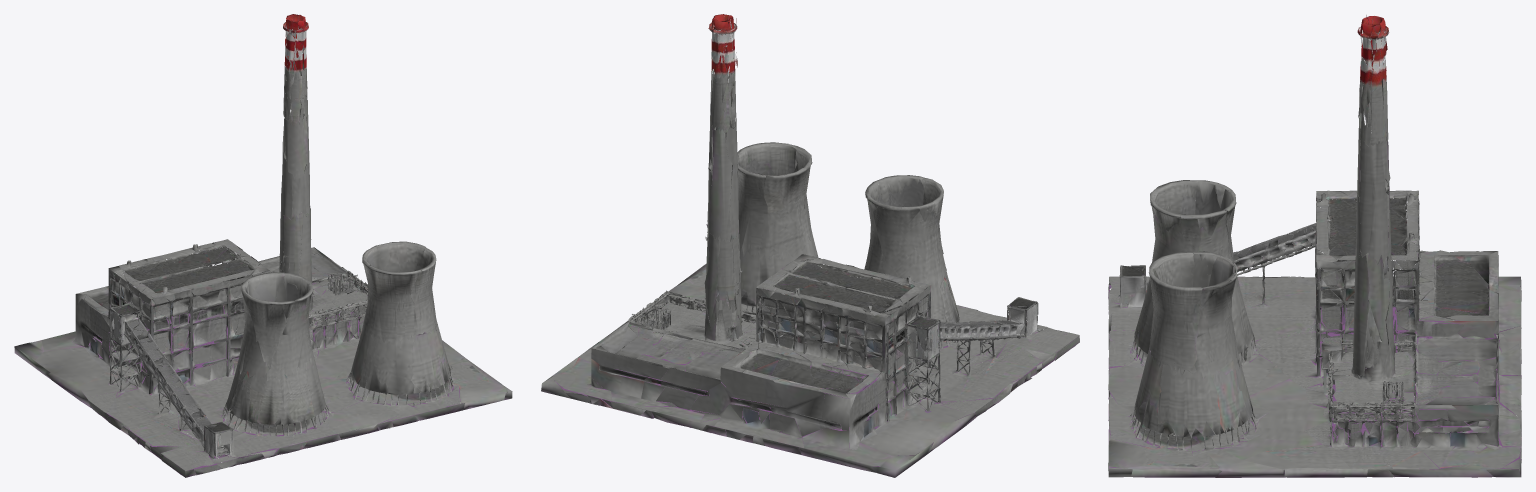
Rendered from coal-plant.glb.
The picture shows the model from 3 angles, left to right: view 1: azimuth 30°, elevation 25°; view 2: azimuth 150°, elevation 25°; view 3: azimuth 270°, elevation 25°; orthographic projection. The views are drawn at different scales.
Parts seen in each view (by area): view 1: Mesh_0; view 2: Mesh_0; view 3: Mesh_0.
Boxes of the visible parts, x1,y1,x2,y2 form: Mesh_0: [14, 14, 512, 477]; Mesh_0: [541, 14, 1079, 477]; Mesh_0: [1108, 15, 1521, 477].
Size of the model in its own units: 14.67 by 13.99 by 13.26.
Materials: 1 (1 with a texture image).
